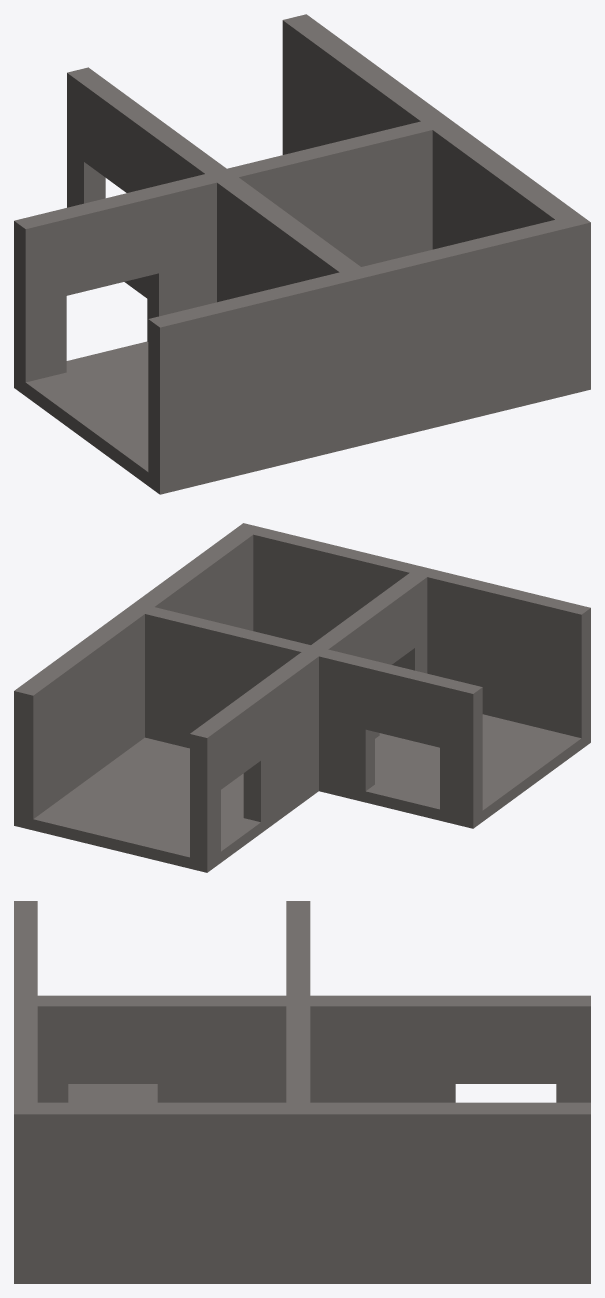
File: SallesComble_SallesComble_01.fbx
3 views of the same model, one above another, from view 1: azimuth 30°, elevation 25°; view 2: azimuth 150°, elevation 25°; view 3: azimuth 270°, elevation 25° (orthographic). The views are drawn at different scales.
Parts seen in each view (by area): view 1: SallesComble_01; view 2: SallesComble_01; view 3: SallesComble_01.
Part boxes in pixels (x1,y1,x2,y2): SallesComble_01: (14,14,590,494); SallesComble_01: (14,523,590,872); SallesComble_01: (14,901,590,1283).
Bounding box in the file's own units: 17.5 × 6.49 × 20.
